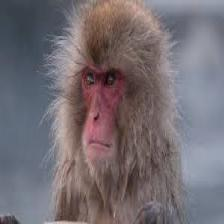monkey: (32, 4, 192, 224)
